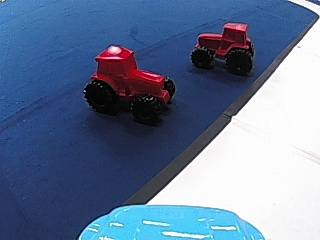Tracktor: (79, 43, 178, 121), (190, 19, 255, 74)
